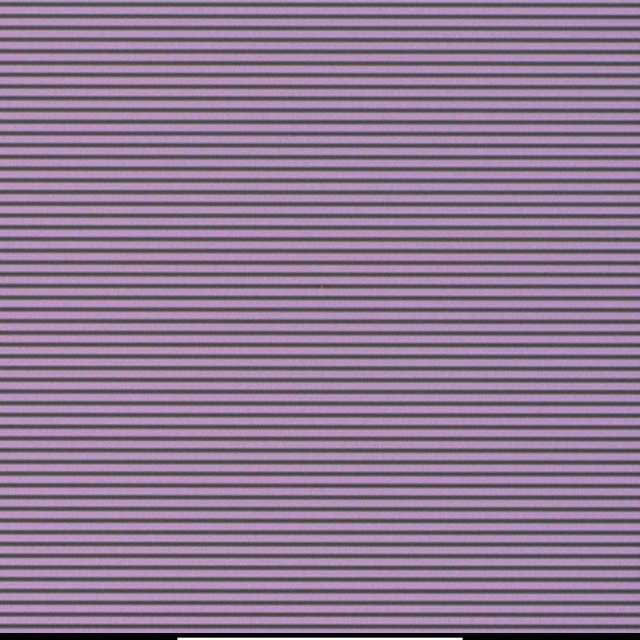03_intrusion: (318, 283, 327, 294)
